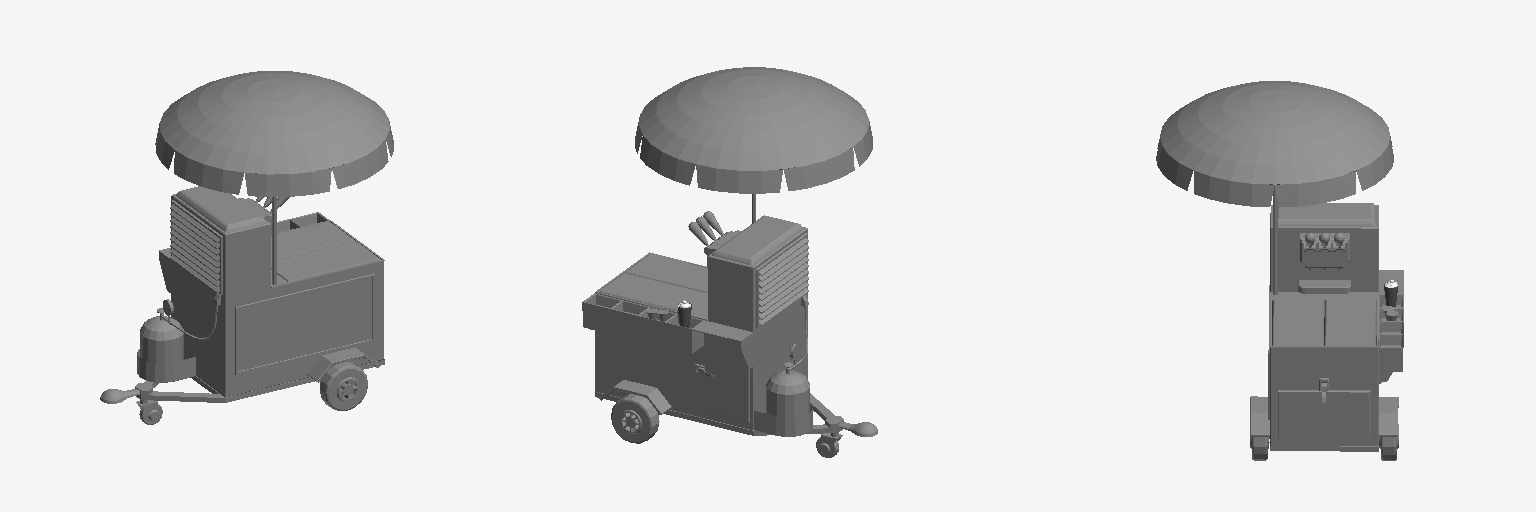
File: puestoHelado.obj
3 renders of one model, left to right at view 1: azimuth 30°, elevation 25°; view 2: azimuth 150°, elevation 25°; view 3: azimuth 270°, elevation 25°, orthographic.
Parts seen in each view (by area): view 1: carrito, manijas, letrero, chocolate, llantas, fresa; view 2: carrito, manijas, fresa, chocolate, llantas; view 3: manijas, carrito, fresa, chocolate, llantas, sabores.
Boxes of the visible parts, <box> form: carrito: <box>100,186,384,420</box>; manijas: <box>140,71,393,362</box>; letrero: <box>238,277,371,370</box>; chocolate: <box>271,241,377,279</box>; llantas: <box>139,362,367,424</box>; fresa: <box>271,222,351,258</box>; carrito: <box>582,194,877,453</box>; manijas: <box>635,67,872,416</box>; fresa: <box>601,273,707,311</box>; chocolate: <box>627,254,707,290</box>; llantas: <box>611,394,838,457</box>; manijas: <box>1156,81,1393,269</box>; carrito: <box>1250,186,1403,451</box>; fresa: <box>1326,300,1374,343</box>; chocolate: <box>1274,300,1322,343</box>; llantas: <box>1252,437,1396,460</box>; sabores: <box>1272,300,1376,345</box>.
Size of the model in its own units: 10.55 by 12.62 by 8.62.